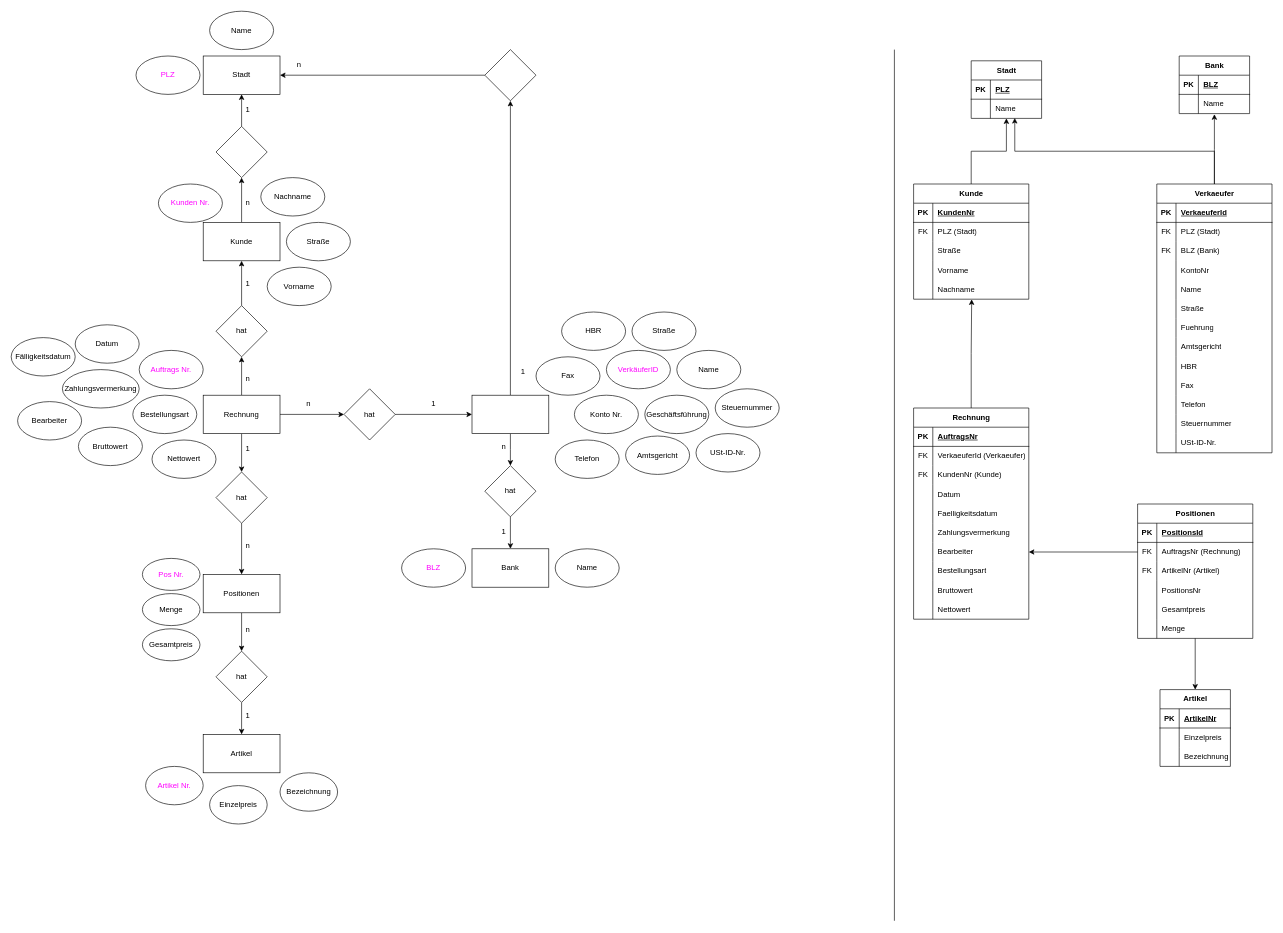
This 1283x933 diagram has some shape labels left out. The shapes that lost their labels are listed below. From the top down, each one's centre as x and y in pixels, then its label:
At pixel 510 75: "sitz in".
At pixel 241 152: "wohnt in".
At pixel 510 414: "Verkäufer".
